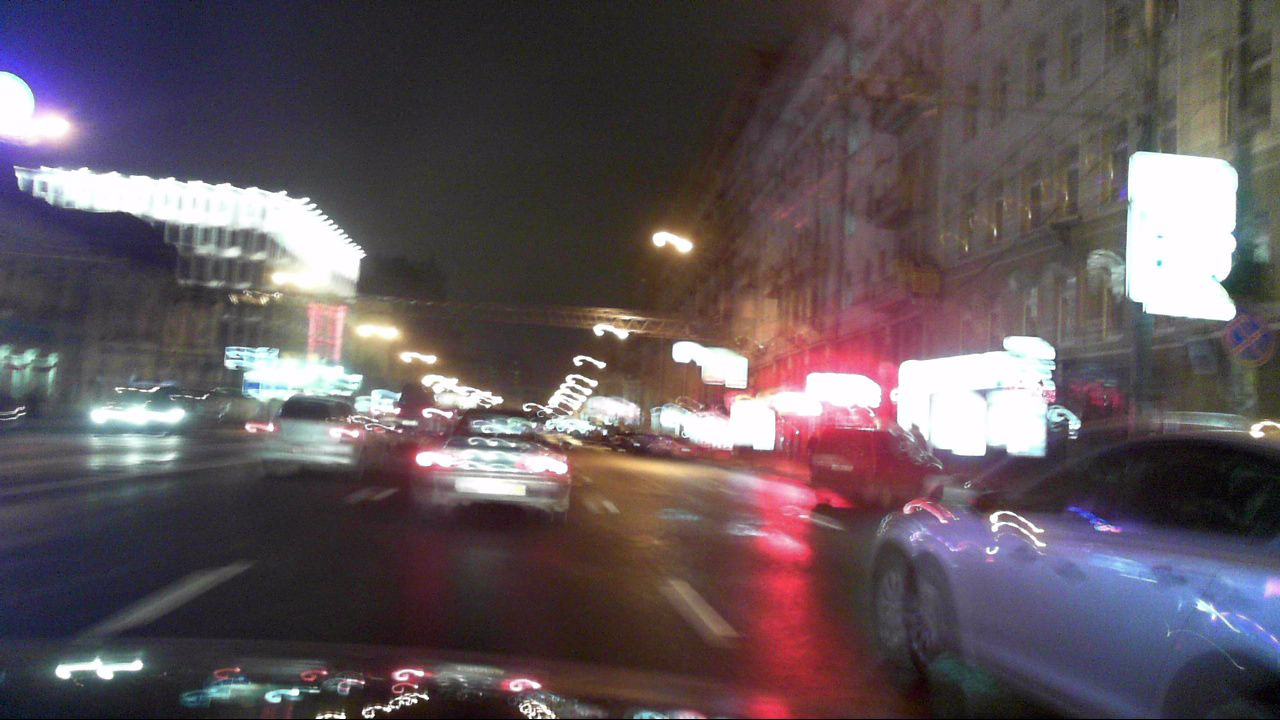No Parking: (1222, 315, 1272, 366)
